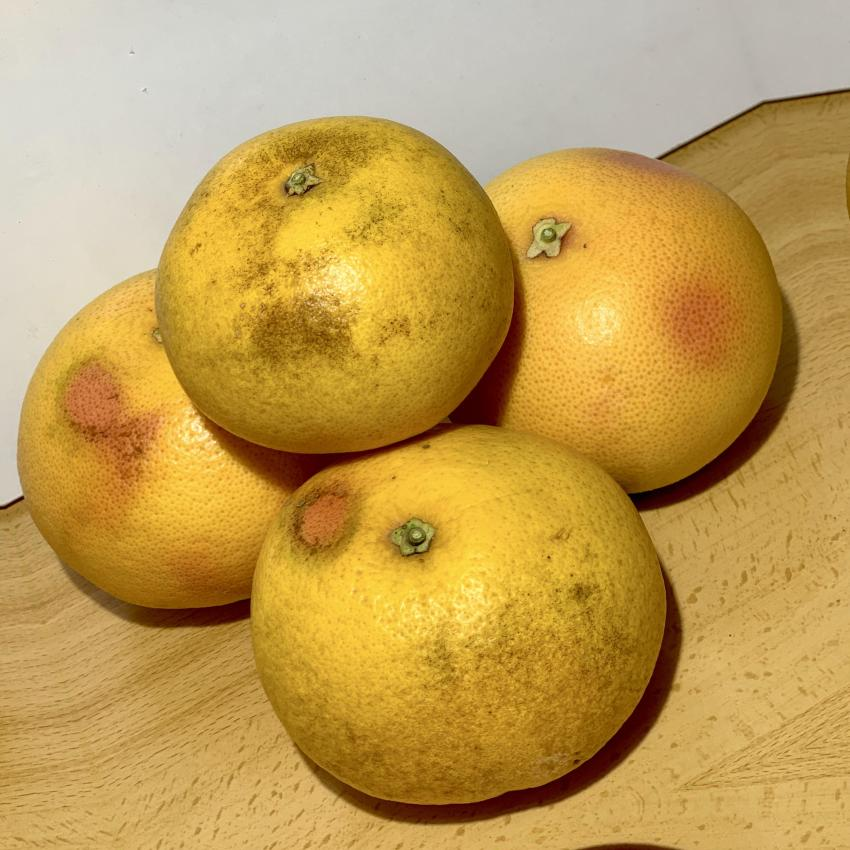Mal estado: (230, 430, 681, 814), (144, 103, 517, 469), (441, 132, 797, 500), (8, 254, 304, 641)
